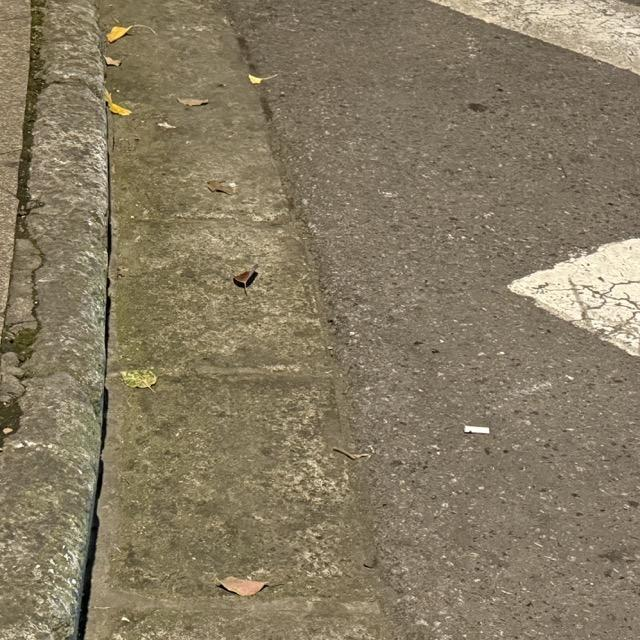curb: (0, 0, 107, 639)
